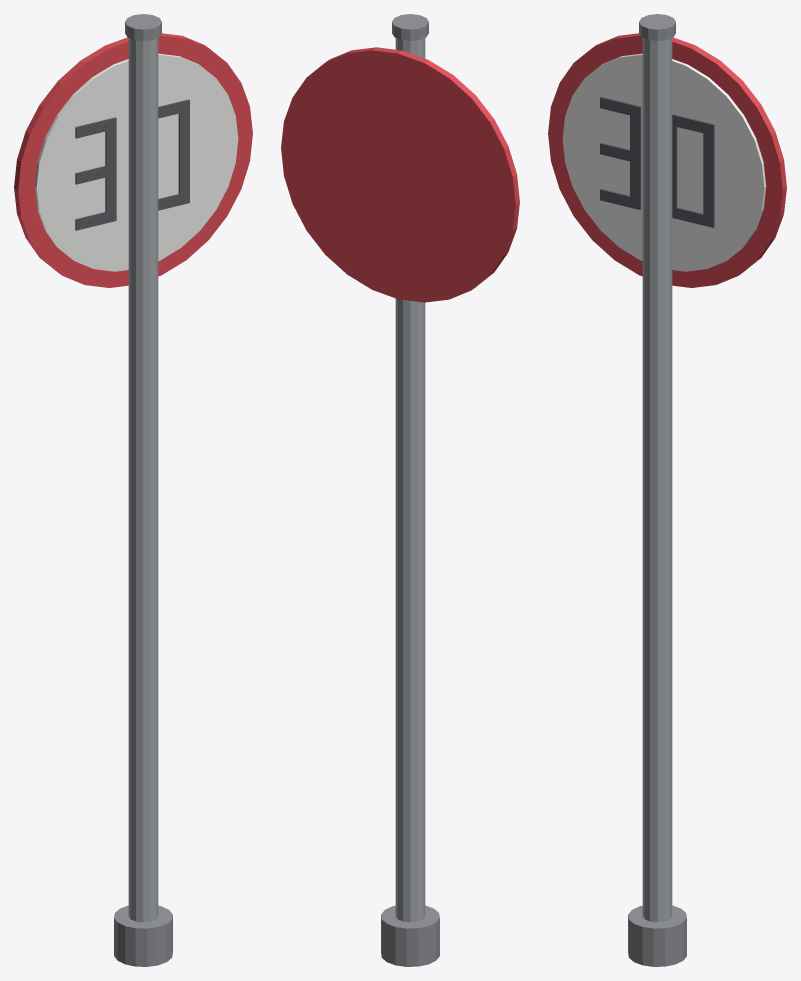
The model's file is th4_schild_tempo.glb.
The picture shows the model from 3 angles, left to right: view 1: azimuth 30°, elevation 25°; view 2: azimuth 150°, elevation 25°; view 3: azimuth 330°, elevation 25°; orthographic projection.
Visible parts, largest first — view 1: schild_tempo; view 2: schild_tempo; view 3: schild_tempo.
Boxes of the visible parts, box(x1,y1,x2,y2) form: schild_tempo: box(14, 14, 252, 966); schild_tempo: box(281, 14, 519, 966); schild_tempo: box(548, 14, 786, 966).
Bounding box in the file's own units: 0.64 × 2.43 × 0.14.
